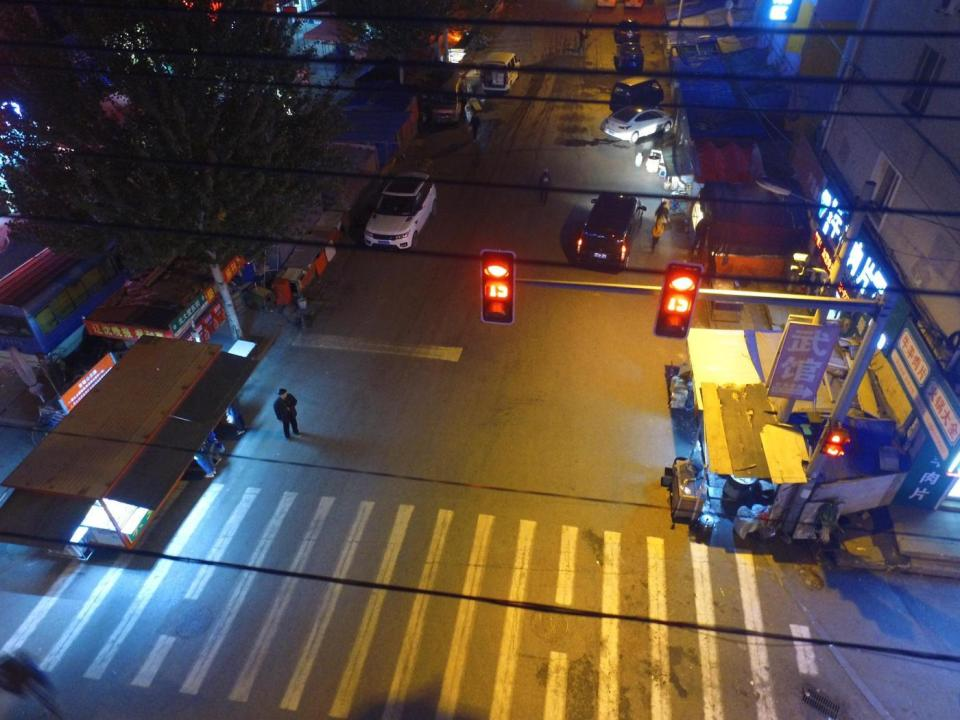bus: (0, 207, 143, 360)
car: (365, 171, 437, 256), (578, 192, 644, 274), (603, 105, 674, 148), (479, 49, 521, 95), (614, 39, 644, 76), (614, 18, 638, 42)
van: (607, 76, 663, 114), (427, 73, 466, 124)
